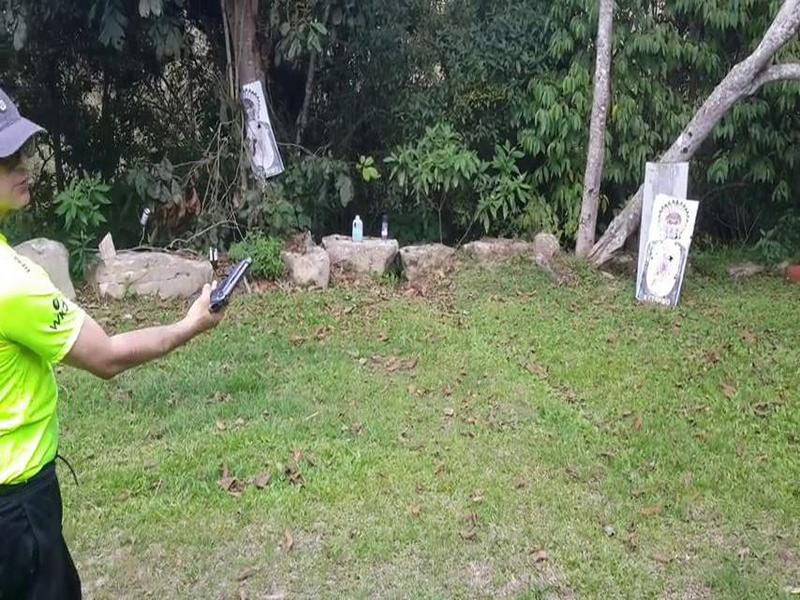Pistola: (201, 249, 258, 316)
